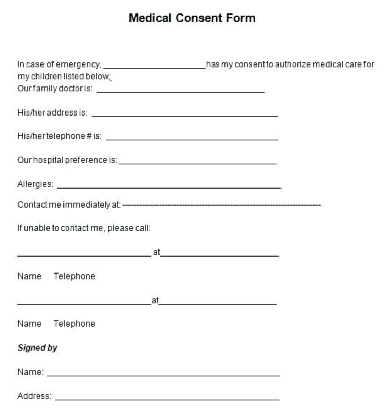textline: (45, 360, 282, 381), (53, 386, 283, 404), (54, 175, 282, 191), (103, 126, 281, 145), (90, 104, 278, 120), (94, 81, 268, 98), (120, 194, 325, 208), (14, 239, 153, 259), (118, 152, 280, 168), (159, 240, 283, 260), (15, 291, 154, 307), (158, 292, 280, 308), (102, 56, 207, 71)
